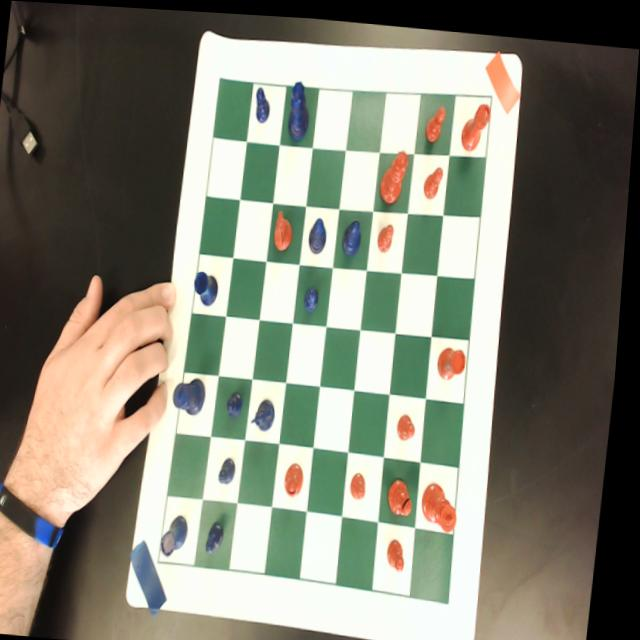B: (344, 213, 366, 252), (310, 212, 331, 251)
K: (177, 372, 212, 415)
N: (254, 393, 283, 431)
P: (253, 82, 273, 120), (212, 517, 233, 553), (223, 452, 244, 484), (231, 387, 250, 417), (306, 281, 325, 309)
Q: (287, 75, 314, 139)
R: (167, 510, 197, 556), (195, 266, 224, 304)
b: (392, 472, 422, 512), (290, 457, 312, 494)
k: (426, 474, 467, 529)
n: (275, 204, 298, 248)
p: (425, 98, 448, 140), (424, 158, 446, 196), (393, 532, 415, 566), (402, 404, 423, 435), (379, 215, 398, 249), (356, 465, 374, 496)
q: (380, 142, 412, 200)
r: (462, 94, 493, 147), (441, 340, 472, 375)
